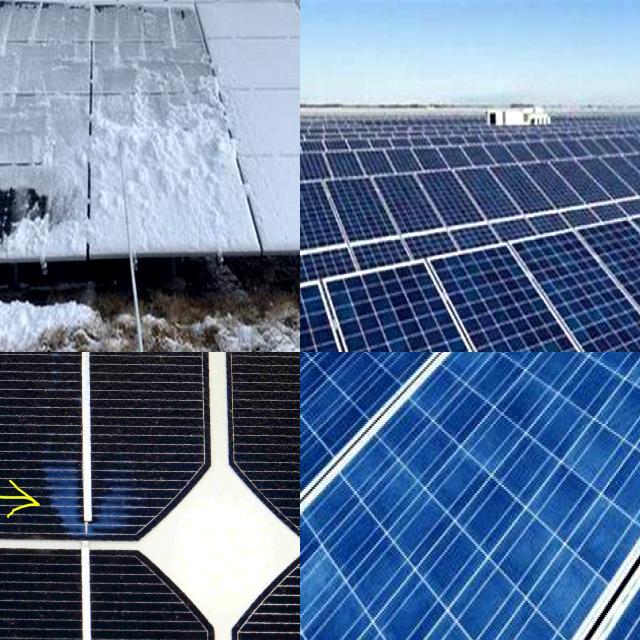crack: (300, 352, 640, 640), (300, 352, 528, 640), (396, 352, 640, 487), (304, 352, 599, 429), (300, 352, 427, 512), (420, 249, 608, 352), (513, 212, 640, 352), (312, 270, 528, 352), (572, 207, 640, 352)
panel: (156, 151, 247, 249), (98, 58, 218, 112), (0, 48, 90, 104), (237, 75, 300, 150), (0, 173, 61, 243), (0, 0, 85, 49), (95, 0, 196, 38), (76, 204, 144, 254), (0, 114, 59, 171), (83, 125, 134, 190), (262, 161, 300, 248), (208, 10, 298, 40), (0, 178, 26, 271), (0, 140, 59, 178), (0, 155, 61, 185), (0, 22, 45, 48), (0, 18, 30, 52), (0, 66, 19, 103), (0, 62, 23, 87)
shadow: (39, 430, 148, 536)
